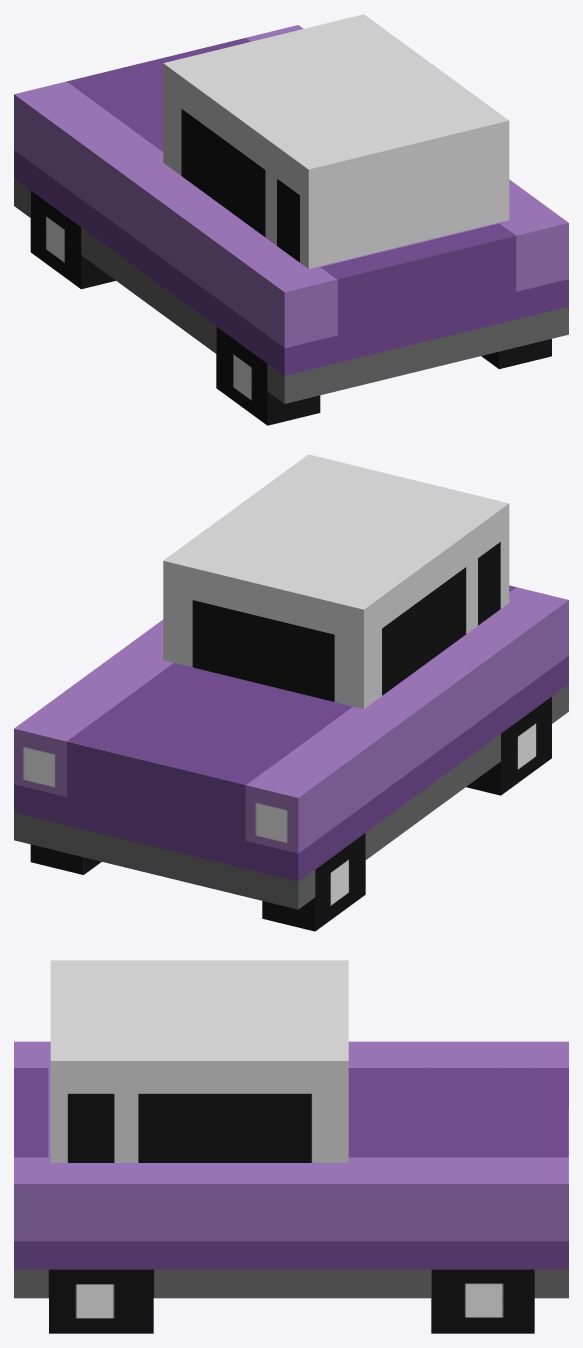
The model's file is Car.fbx.
The picture shows the model from 3 angles, top to bottom: view 1: azimuth 30°, elevation 25°; view 2: azimuth 150°, elevation 25°; view 3: azimuth 270°, elevation 25°; orthographic projection. The views are drawn at different scales.
Visible parts, largest first — view 1: big; view 2: big; view 3: big.
Boxes of the visible parts, x1=… form: big: x1=14, y1=14, x2=568, y2=425; big: x1=14, y1=454, x2=568, y2=931; big: x1=14, y1=960, x2=568, y2=1333.
Size of the model in its own units: 185 by 152 by 304.
Materials: 1 (1 with a texture image).
